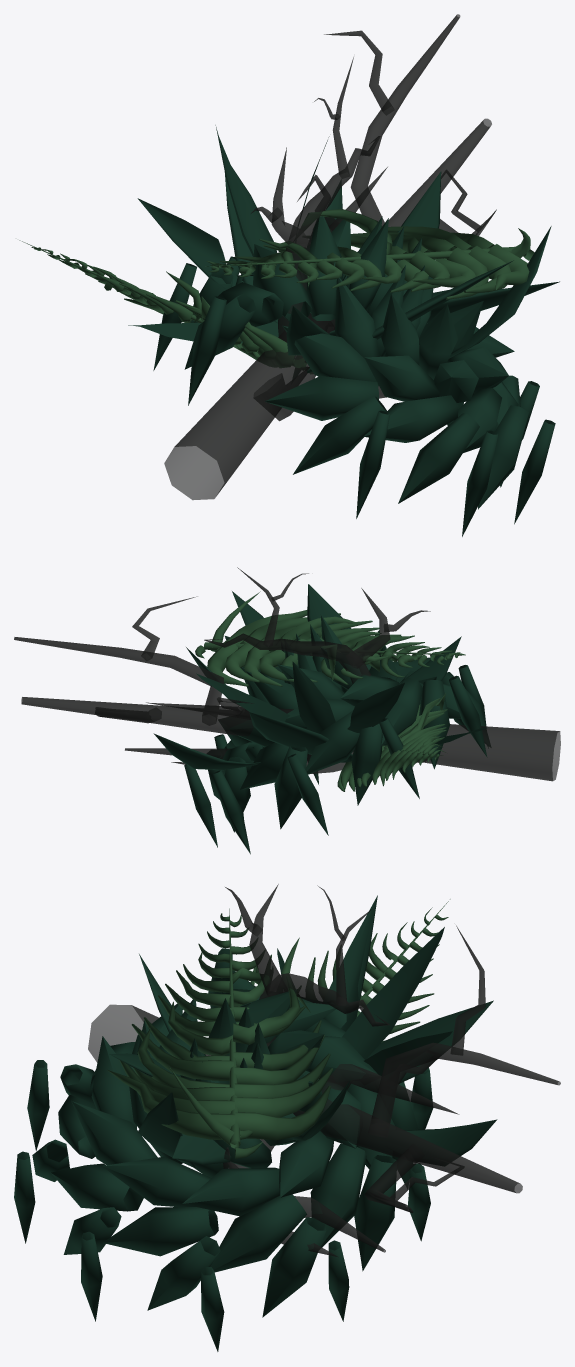
File: temperee.obj
3 renders of one model, top to bottom at view 1: azimuth 30°, elevation 25°; view 2: azimuth 150°, elevation 25°; view 3: azimuth 270°, elevation 25°, orthographic. The views are drawn at different scales.
Visible parts, largest first — view 1: bgroup3, bgroup2, bgroup1.002, bgroup2.001, bgroup3.001, bgroup2.003, bgroup5.001, bgroup7, bgroup8, bgroup10, bgroup6, Fougere1_bgroup1.001 (+2 smaller); view 2: bgroup3, bgroup2, bgroup1.002, bgroup3.001, bgroup2.001, bgroup5.001, bgroup7, bgroup3.003, bgroup2.003, bgroup8, bgroup10, bgroup2.002 (+5 smaller); view 3: bgroup3, bgroup2, bgroup2.001, bgroup3.001, bgroup1.002, bgroup5.001, bgroup10, bgroup8, bgroup7, bgroup2.003, bgroup2.002, bgroup3.003 (+4 smaller).
Part boxes in pixels (bbox=[...]): bgroup3: bbox=[153, 209, 555, 536]; bgroup2: bbox=[128, 125, 559, 372]; bgroup1.002: bbox=[164, 118, 491, 499]; bgroup2.001: bbox=[208, 244, 529, 299]; bgroup3.001: bbox=[206, 209, 494, 286]; bgroup2.003: bbox=[34, 249, 294, 367]; bgroup5.001: bbox=[350, 14, 460, 226]; bgroup7: bbox=[278, 136, 380, 359]; bgroup8: bbox=[271, 57, 353, 247]; bgroup10: bbox=[253, 167, 496, 421]; bgroup6: bbox=[324, 30, 394, 115]; Fougere1_bgroup1.001: bbox=[205, 246, 527, 266]; bgroup3: bbox=[184, 615, 490, 854]; bgroup2: bbox=[153, 584, 486, 770]; bgroup1.002: bbox=[21, 697, 560, 781]; bgroup3.001: bbox=[207, 638, 452, 686]; bgroup2.001: bbox=[223, 610, 465, 661]; bgroup5.001: bbox=[14, 637, 223, 725]; bgroup7: bbox=[204, 633, 370, 683]; bgroup3.003: bbox=[337, 748, 439, 791]; bgroup2.003: bbox=[382, 693, 447, 754]; bgroup8: bbox=[237, 567, 390, 668]; bgroup10: bbox=[97, 702, 419, 762]; bgroup2.002: bbox=[125, 748, 353, 773]; bgroup3: bbox=[14, 948, 433, 1351]; bgroup2: bbox=[109, 895, 497, 1168]; bgroup2.001: bbox=[107, 913, 235, 1139]; bgroup3.001: bbox=[229, 914, 333, 1140]; bgroup1.002: bbox=[88, 1004, 522, 1193]; bgroup5.001: bbox=[368, 1042, 560, 1137]; bgroup10: bbox=[321, 1064, 459, 1212]; bgroup8: bbox=[249, 884, 372, 1005]; bgroup7: bbox=[259, 973, 389, 1046]; bgroup2.003: bbox=[250, 907, 432, 1045]; bgroup2.002: bbox=[235, 1113, 385, 1252]; bgroup3.003: bbox=[356, 914, 448, 1042].
Size of the model in its own units: 2.07 by 1.53 by 1.83.
